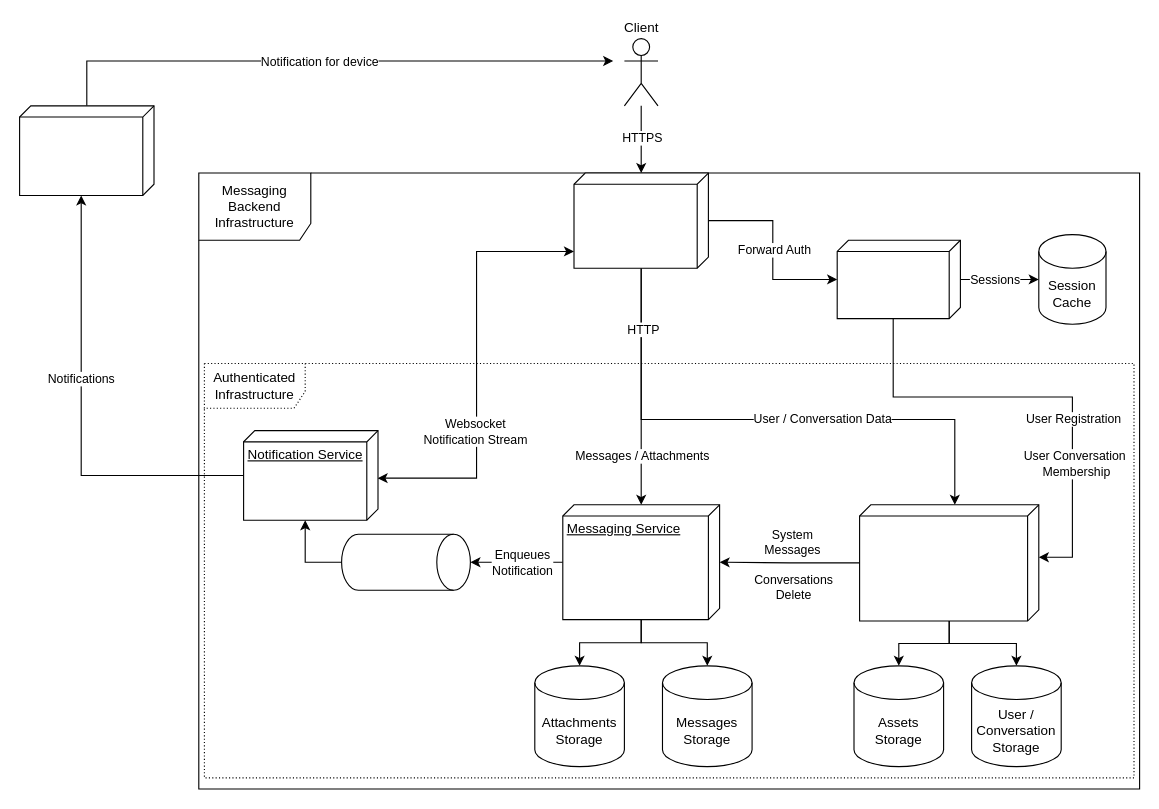
Image size: 1159x809. Some labels were removed from this diagram. The box of each missing label's shape, as (x1, y1, x2, y2) in pixels:
Auth Service: (836, 239, 960, 319)
Events Queue: (340, 533, 470, 590)
Load Balancer Reverse Proxy: (573, 172, 708, 268)
Notifications Provider SNS/Firebase: (18, 105, 154, 195)
User / Conversation Service: (858, 504, 1039, 621)
